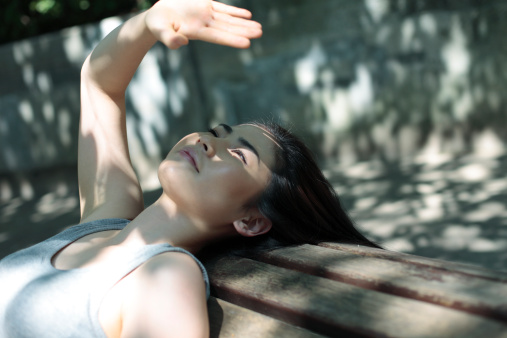deitado: (37, 34, 326, 338)
